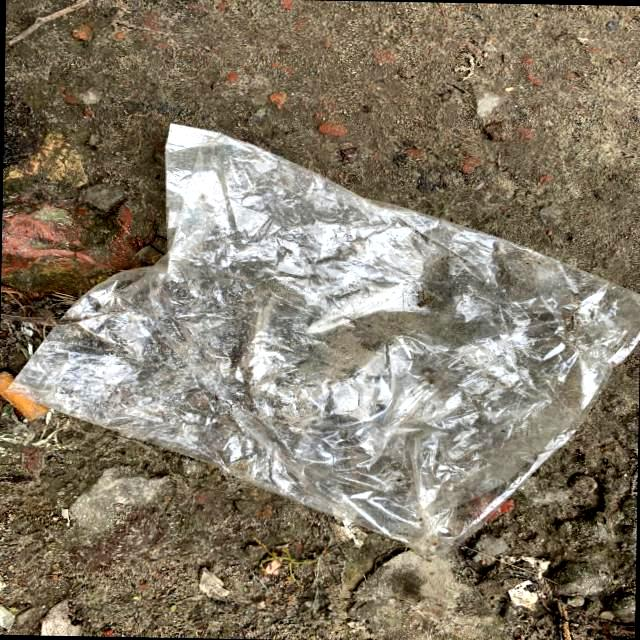polythene: (61, 187, 604, 504)
